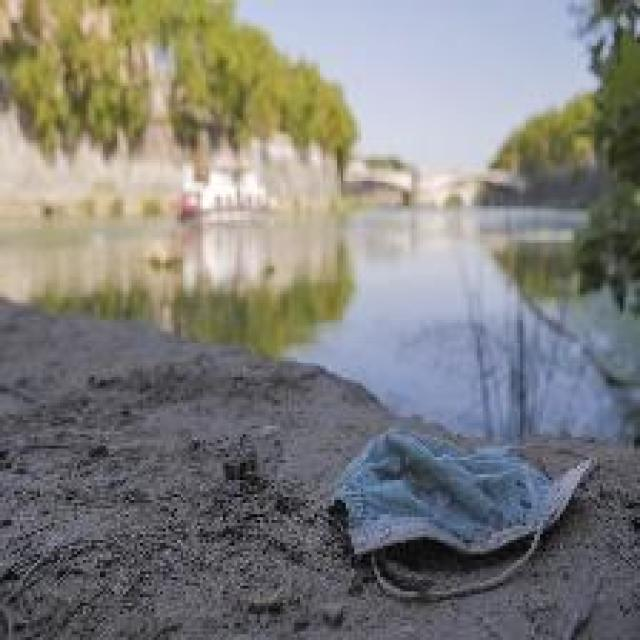Mask: (335, 420, 591, 610)
